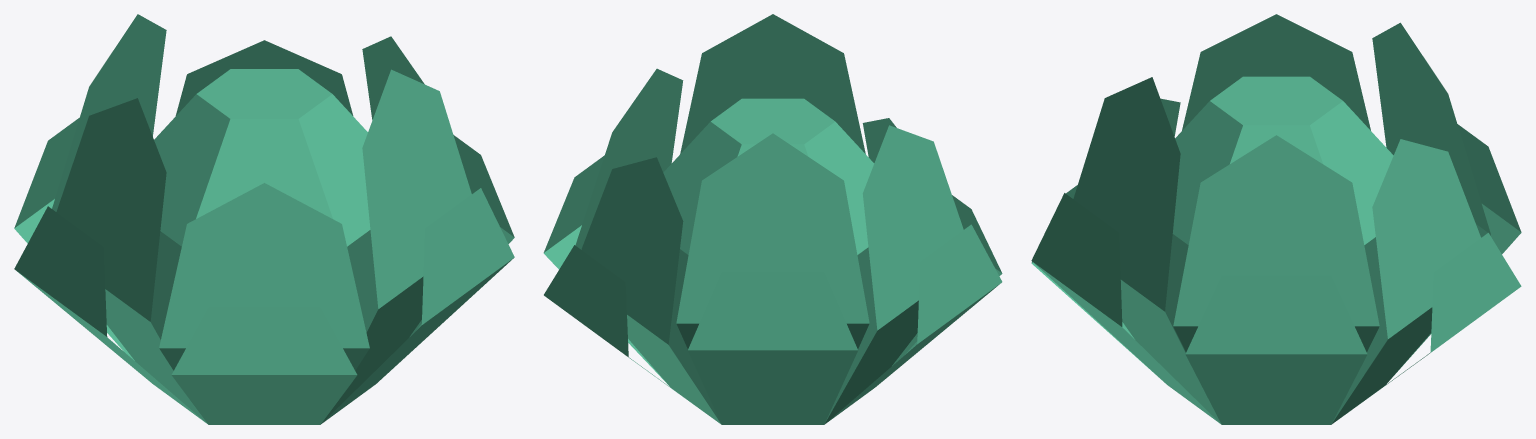
Rendered from cabbage.fbx.
3 renders of one model, left to right at view 1: azimuth 30°, elevation 25°; view 2: azimuth 150°, elevation 25°; view 3: azimuth 270°, elevation 25°, orthographic. The views are drawn at different scales.
Visible parts, largest first — view 1: cabbage; view 2: cabbage; view 3: cabbage.
Part boxes in pixels (x1=…): cabbage: x1=14, y1=14, x2=514, y2=424; cabbage: x1=543, y1=14, x2=1002, y2=424; cabbage: x1=1031, y1=14, x2=1521, y2=424.
Size of the model in its own units: 3.79 by 3.07 by 4.04.
